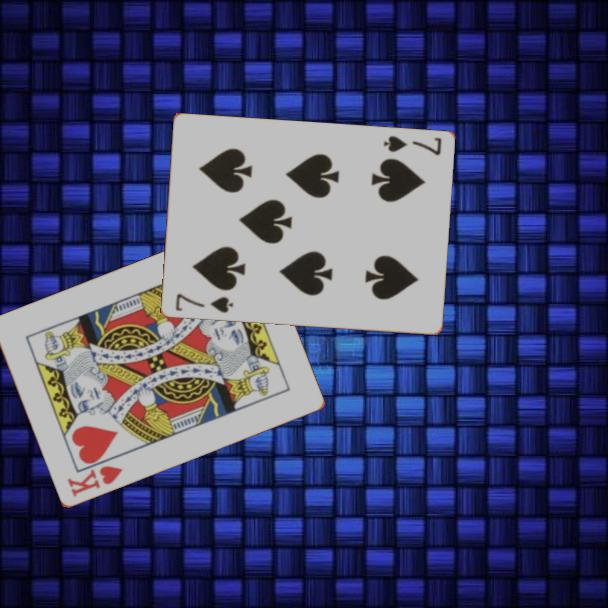h13: (64, 463, 126, 500)
s07: (380, 133, 444, 159), (172, 290, 235, 316)
